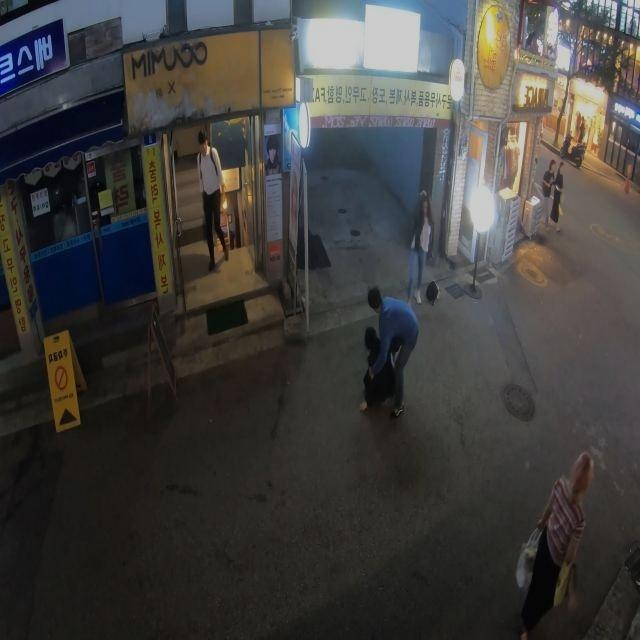fight: (355, 286, 422, 418)
non-fight: (404, 189, 435, 303)
